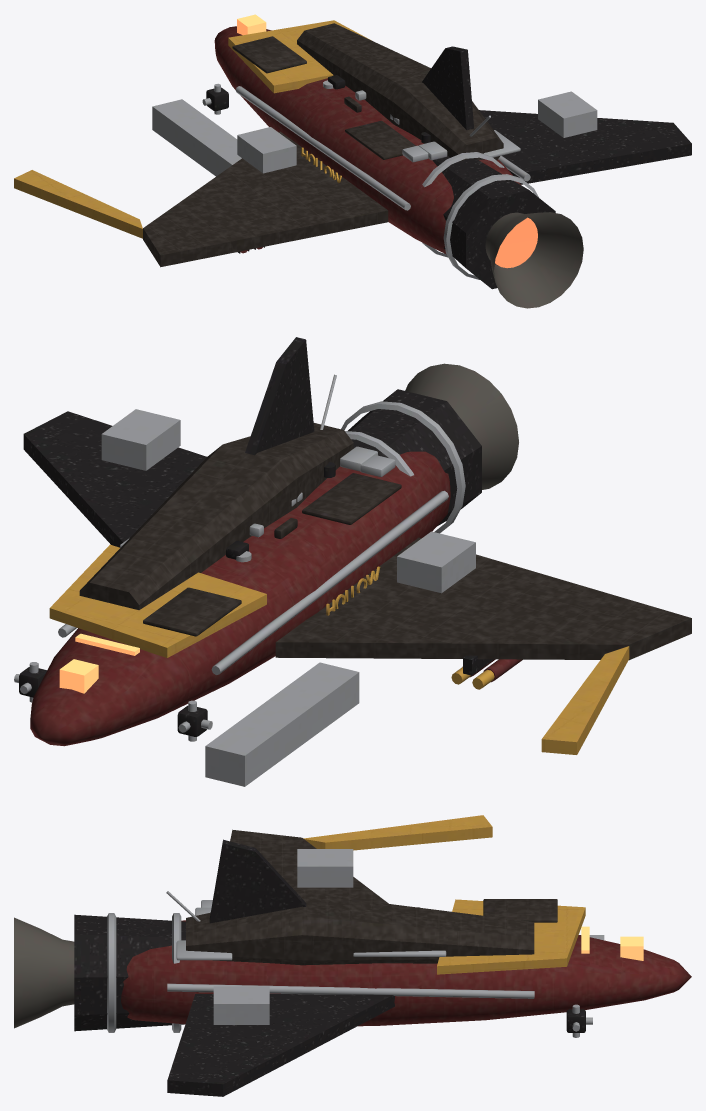
File: game-raider.glb
The picture shows the model from 3 angles, top to bottom: view 1: azimuth 30°, elevation 25°; view 2: azimuth 150°, elevation 25°; view 3: azimuth 270°, elevation 25°; orthographic projection. The views are drawn at different scales.
Visible parts, largest first — view 1: raider; view 2: raider; view 3: raider.
Boxes of the visible parts, x1,y1,x2,y2 form: raider: [14, 14, 691, 308]; raider: [14, 337, 691, 786]; raider: [14, 815, 691, 1096].
Size of the model in its own units: 14.4 by 4.7 by 14.59.
4 materials, 2 textured.
